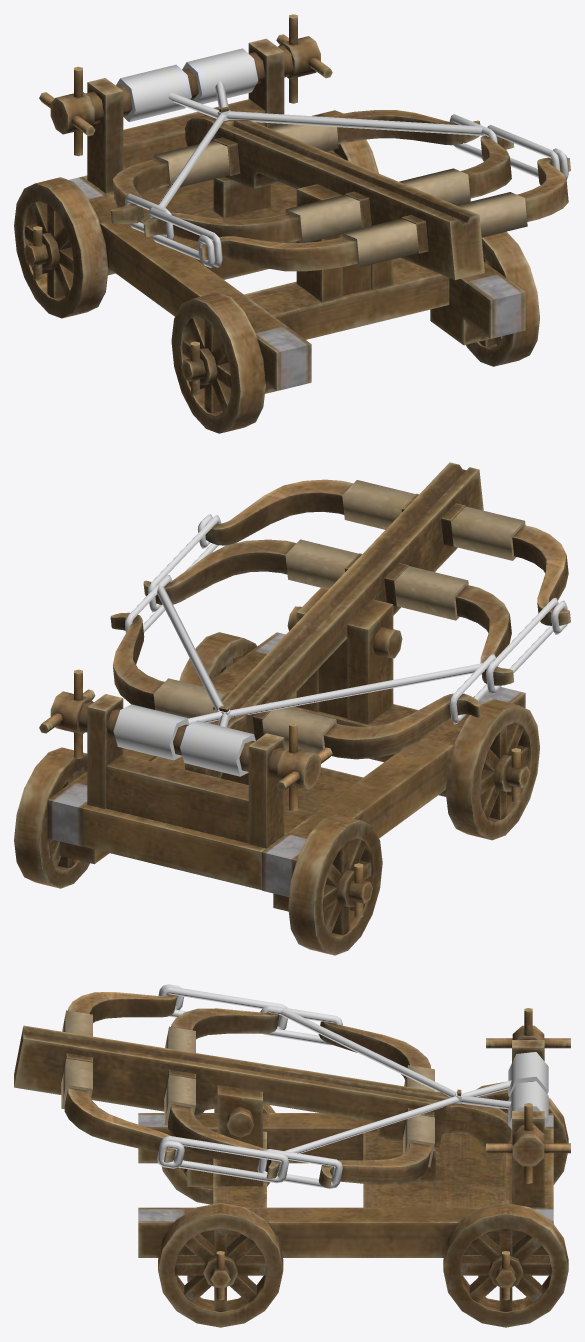
The model's file is 248-siegecrossbow.glb.
3 renders of one model, top to bottom at view 1: azimuth 30°, elevation 25°; view 2: azimuth 150°, elevation 25°; view 3: azimuth 270°, elevation 25°, orthographic. The views are drawn at different scales.
Size of the model in its own units: 2.39 by 1.57 by 3.45.
Materials: 1 (1 with a texture image).
